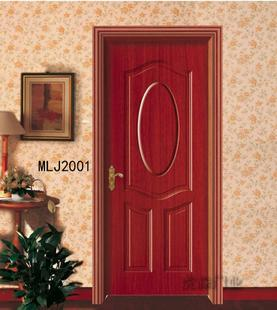door: (103, 40, 210, 296)
